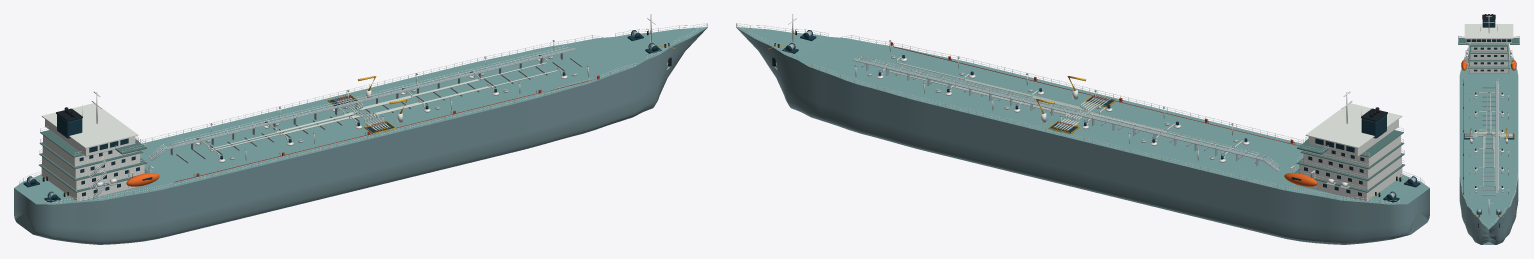
File: freeboard_ship.glb
3 views of the same model, side by side, from view 1: azimuth 30°, elevation 25°; view 2: azimuth 150°, elevation 25°; view 3: azimuth 270°, elevation 25° (orthographic). The views are drawn at different scales.
Visible parts, largest first — view 1: Continuous hull and deck, Original pipework railings and deck machinery, Original rail region Aft, Original rail region Middle, Original rail region Forward, Original rail region Bow; view 2: Continuous hull and deck, Original pipework railings and deck machinery, Original rail region Aft, Original rail region Middle, Original rail region Forward, Original rail region Bow; view 3: Continuous hull and deck, Original pipework railings and deck machinery, Original rail region Aft, Original rail region Bow.
Part boxes in pixels (bbox=[...]): Continuous hull and deck: bbox=[14, 27, 707, 244]; Original pipework railings and deck machinery: bbox=[23, 14, 675, 202]; Original rail region Aft: bbox=[19, 120, 272, 203]; Original rail region Middle: bbox=[222, 80, 437, 161]; Original rail region Forward: bbox=[386, 43, 592, 120]; Original rail region Bow: bbox=[546, 23, 707, 80]; Continuous hull and deck: bbox=[736, 27, 1429, 244]; Original pipework railings and deck machinery: bbox=[768, 14, 1420, 202]; Original rail region Aft: bbox=[1171, 120, 1424, 203]; Original rail region Middle: bbox=[1006, 80, 1221, 161]; Original rail region Forward: bbox=[851, 43, 1057, 120]; Original rail region Bow: bbox=[736, 23, 897, 80]; Continuous hull and deck: bbox=[1459, 57, 1518, 244]; Original pipework railings and deck machinery: bbox=[1458, 14, 1519, 228]; Original rail region Aft: bbox=[1458, 36, 1519, 74]; Original rail region Bow: bbox=[1462, 193, 1515, 228].
Bounding box in the file's own units: 199 × 39.39 × 27.88.
